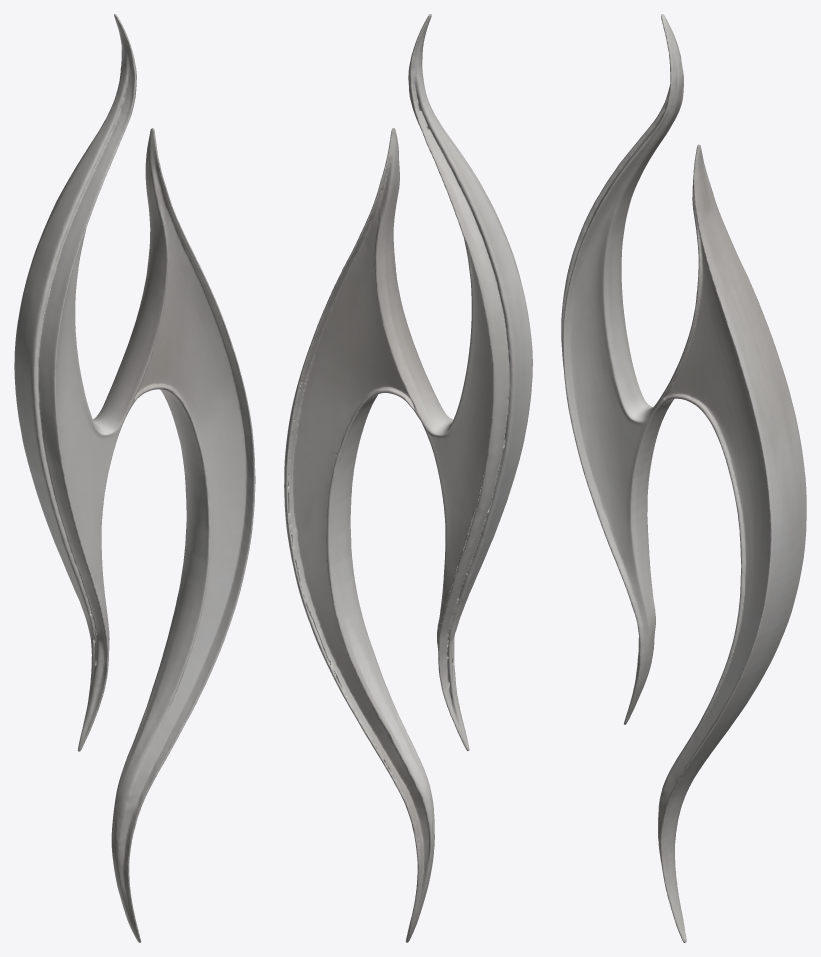
File: teste-meshy-001.glb
3 renders of one model, left to right at view 1: azimuth 30°, elevation 25°; view 2: azimuth 150°, elevation 25°; view 3: azimuth 330°, elevation 25°, orthographic.
Parts seen in each view (by area): view 1: world; view 2: world; view 3: world.
Boxes of the visible parts, left/top/right/bottom form: world: left=14, top=14, right=255, bottom=942; world: left=284, top=14, right=532, bottom=942; world: left=561, top=14, right=806, bottom=942.
Bounding box in the file's own units: 0.2486 × 1 × 0.081.
1 material, 1 textured.
